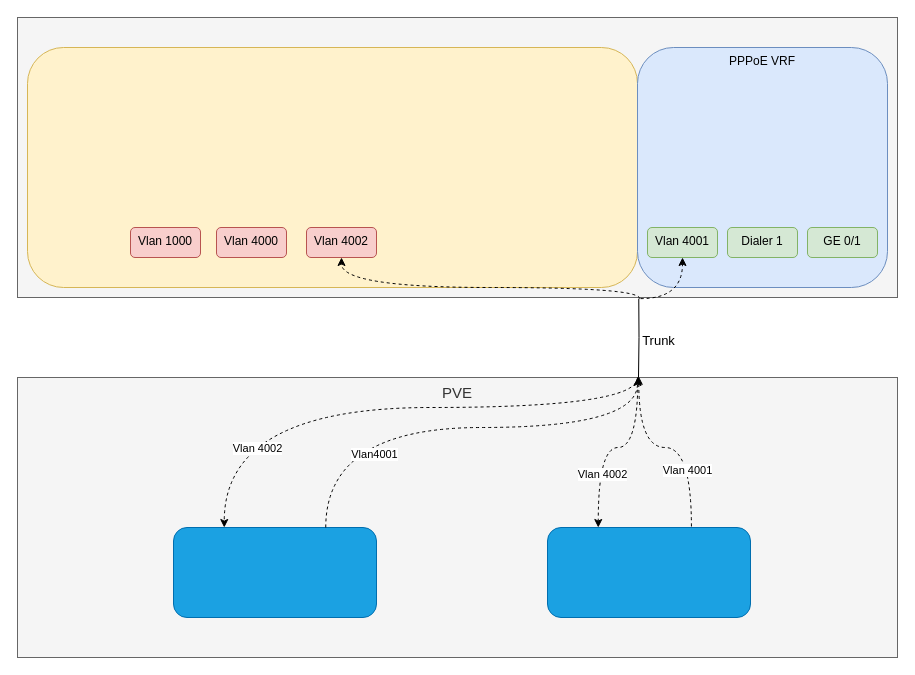
The diagram is 915 pixels wide and 675 high, and some of its shapes have lost their labels. The shapes that lost their labels are listed below. From the top down, each one's box as (x1, y1, x2, y2) in pixels, then its label:
(26, 46, 638, 288): 默认VRF
(16, 16, 898, 298): H3C MSR3600-28
(172, 526, 376, 618): VM SD-WAN CPE
(546, 526, 750, 618): VM OpenWRT
